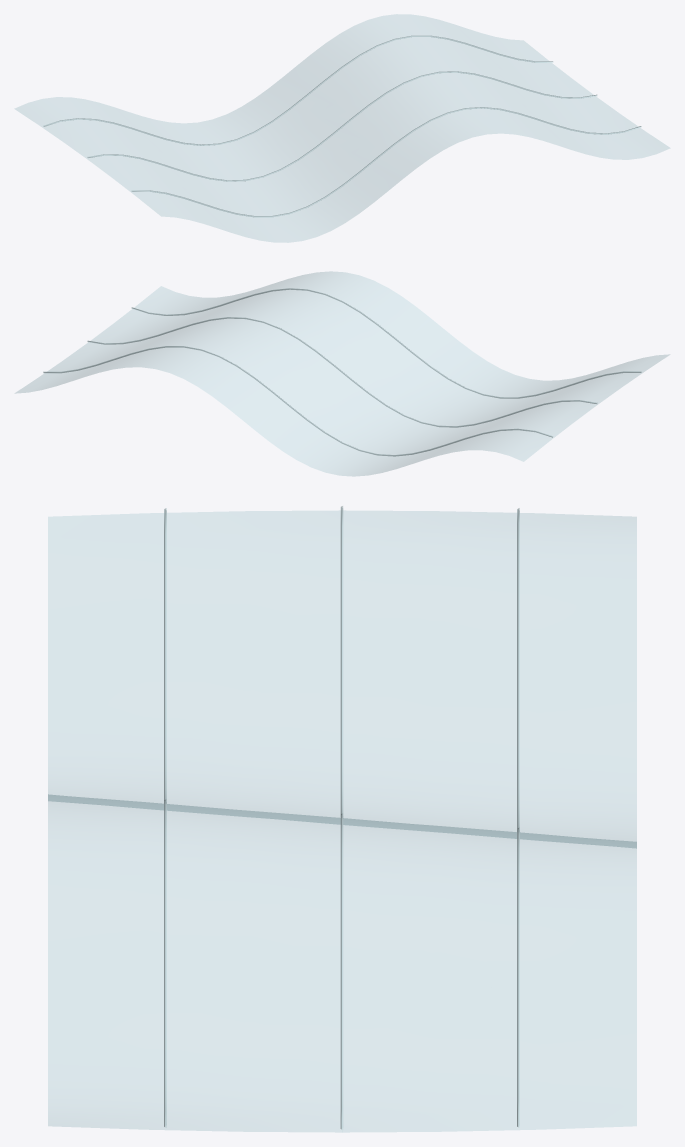
Rendered from lake-intwave-slope-0.glb.
3 renders of one model, top to bottom at view 1: azimuth 30°, elevation 25°; view 2: azimuth 150°, elevation 25°; view 3: azimuth 270°, elevation 25°, orthographic. The views are drawn at different scales.
Parts seen in each view (by area): view 1: lake-intwave-slope-0; view 2: lake-intwave-slope-0; view 3: lake-intwave-slope-0.
Boxes of the visible parts, x1,y1,x2,y2 form: lake-intwave-slope-0: (14, 14, 670, 242); lake-intwave-slope-0: (15, 271, 669, 476); lake-intwave-slope-0: (48, 506, 636, 1132).
Bounding box in the file's own units: 6 × 0.7286 × 3.
